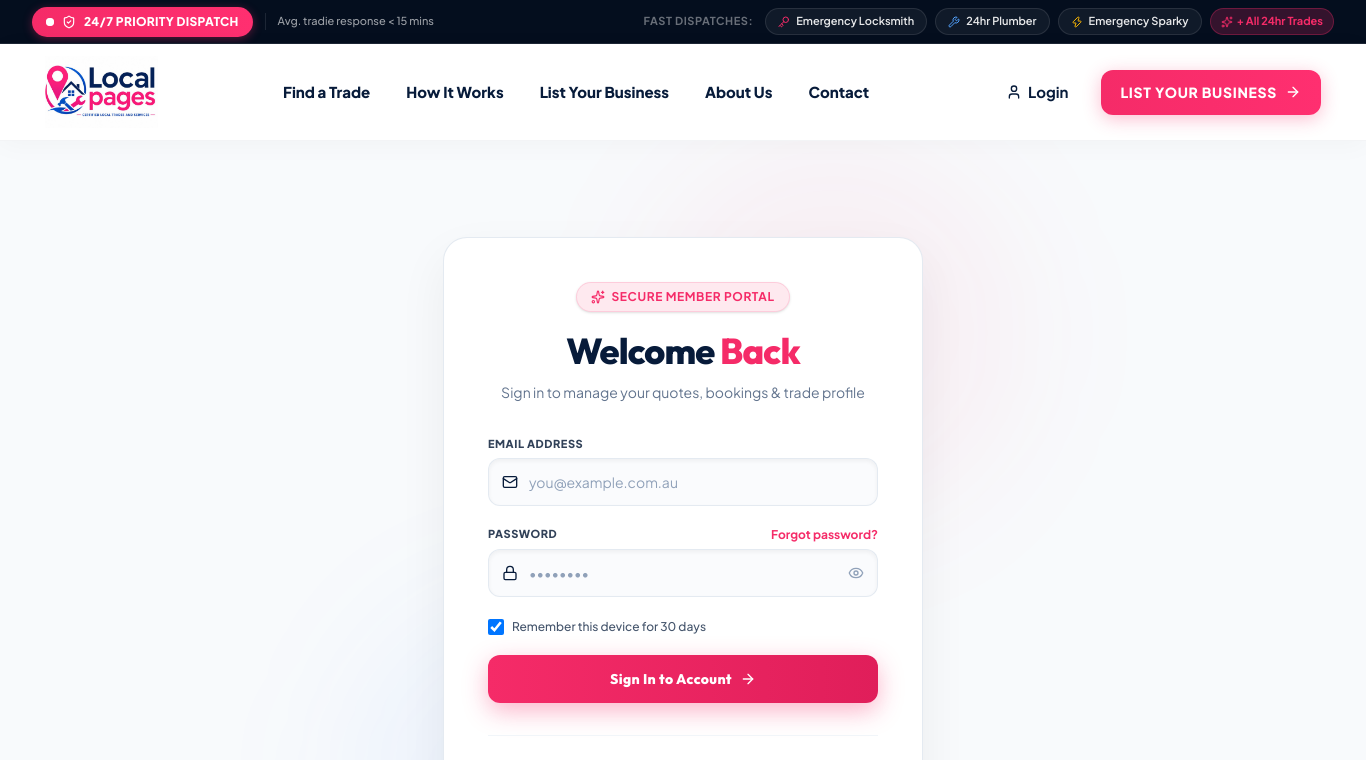
Scenario: Auth Workflows › Login › handles login validation/API failure
Type "test@test.com" into the field labelled "Email Address" at coordinates (683, 482), box left=488, top=458, right=878, bottom=506
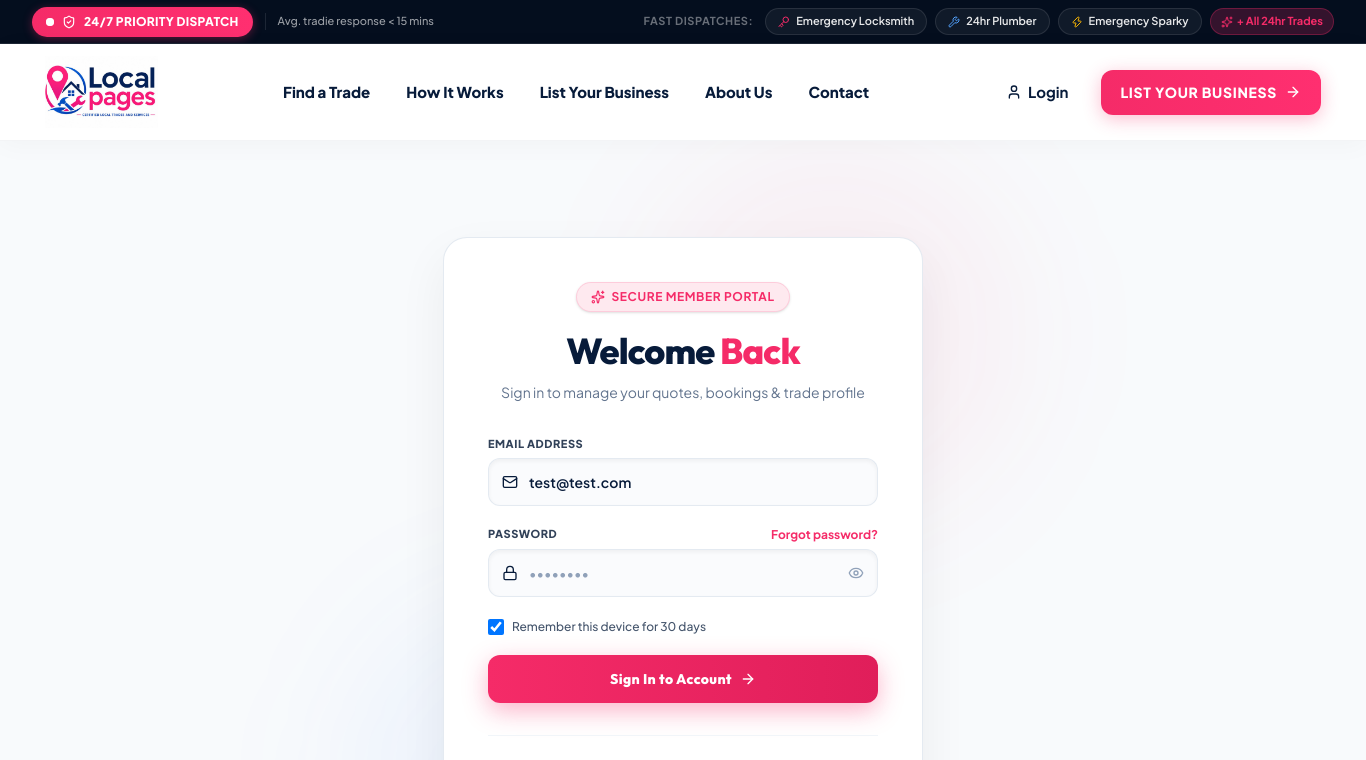
Type "password" into the password field labelled "Password" at coordinates (683, 573), box left=488, top=549, right=878, bottom=597
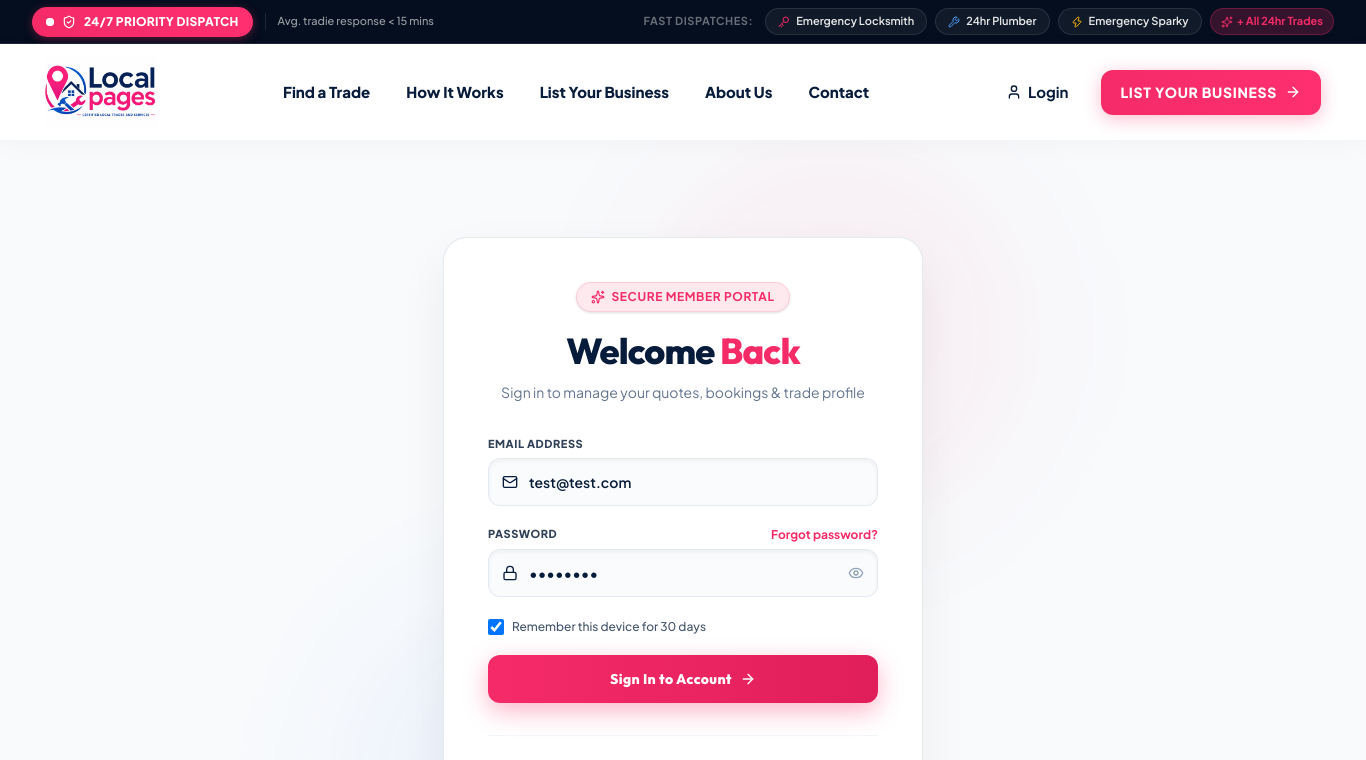
Click the button "Sign In to Account" at coordinates (683, 679), box left=488, top=655, right=878, bottom=703
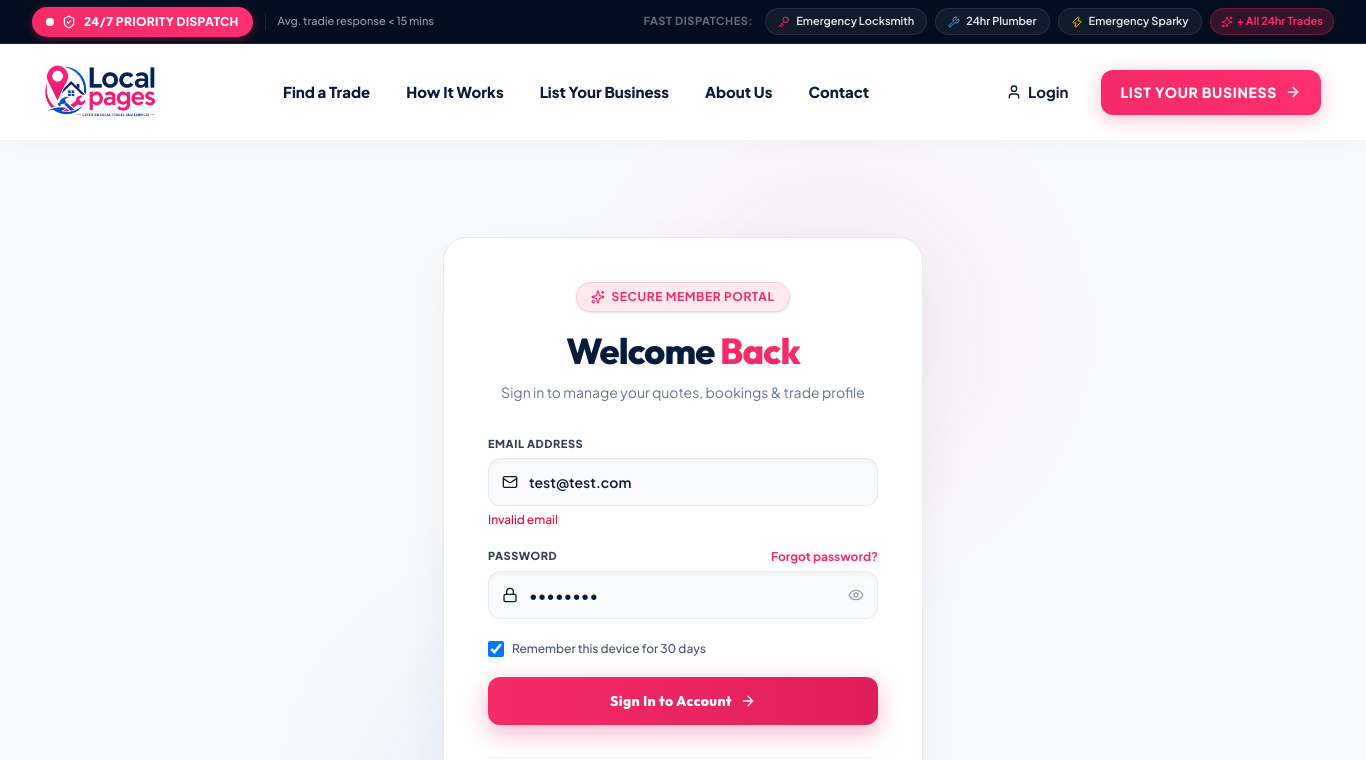
expect the text "Invalid email" is shown: met, box left=488, top=512, right=558, bottom=527
